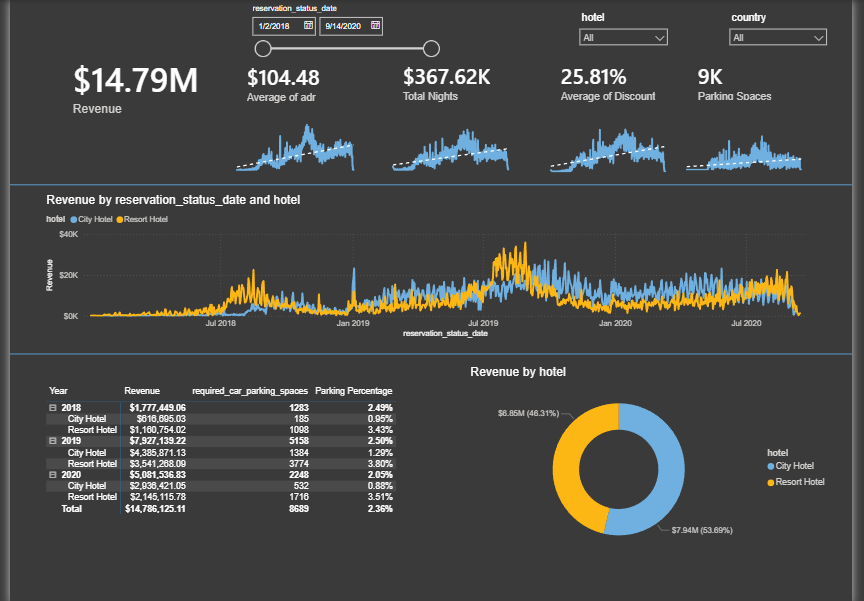

What the dashboard file says about the page in this screenshot:
{"tool":"powerbi","page":{"name":"Page 1","canvas":[1280,920],"ordinal":0},"visuals":[{"type":"shape","box":[0,264.3,1280,32.7],"z":0},{"type":"shape","box":[0,464.1,1280,148.9],"z":1000},{"type":"cardVisual","fields":{"Data":["Sum(Query1.Revenue)"]},"box":[65.3,42.3,257.5,173.9],"z":2000},{"type":"cardVisual","fields":{"Data":["Avg(Query1.adr)"]},"box":[330.6,66.3,237.4,115.3],"z":3000},{"type":"cardVisual","fields":{"Data":["Query1.Total Nights"]},"box":[567.9,69.2,247.9,109.5],"z":4000},{"type":"cardVisual","fields":{"Data":["Avg(Query1.Discount)"]},"box":[807.2,69.2,219.1,108.6],"z":5000},{"type":"lineChart","fields":{"Y":["Sum(Query1.Revenue)"],"Category":["Query1.reservation_status_date"],"Series":["Query1.hotel"]},"box":[50,293.1,1179.1,225.8],"z":6000},{"type":"slicer","fields":{"Values":["Query1.country"]},"box":[1084.9,13.9,168,80.1],"z":7000},{"type":"slicer","fields":{"Values":["Query1.hotel"]},"box":[855.9,13.7,154.5,66.4],"z":8000},{"type":"lineChart","fields":{"Category":["Query1.reservation_status_date"],"Y":["Sum(Query1.adr)"]},"box":[330.6,165.3,207.6,99],"z":9000},{"type":"lineChart","fields":{"Y":["Query1.Total Nights"],"Category":["Query1.reservation_status_date"]},"box":[567.9,165.3,205.6,99],"z":10000},{"type":"lineChart","fields":{"Y":["Sum(Query1.Discount)"],"Category":["Query1.reservation_status_date"]},"box":[807.2,177.8,203.7,89.4],"z":11000},{"type":"cardVisual","fields":{"Data":["Sum(Query1.required_car_parking_spaces)"]},"box":[1015.5,75.5,252.7,94],"z":12000},{"type":"lineChart","fields":{"Y":["Sum(Query1.required_car_parking_spaces)"],"Category":["Query1.reservation_status_date"]},"box":[1014.8,174.9,203.7,89.4],"z":13000},{"type":"donutChart","fields":{"Category":["Query1.hotel"],"Y":["Sum(Query1.Revenue)"]},"box":[694.6,555,558.4,296.4],"z":14000},{"type":"pivotTable","fields":{"Rows":["Query1.reservation_status_date.Variation.Date Hierarchy.Year","Query1.hotel"],"Values":["Sum(Query1.Revenue)","Sum(Query1.required_car_parking_spaces)","Query1.Parking Percentage"]},"box":[50.3,580.1,611,296.4],"z":15000},{"type":"slicer","fields":{"Values":["Query1.reservation_status_date"]},"box":[355.9,0,305.5,93.8],"z":16000}]}

Visuals, with their boxes on the page's 1280x920 design canvas (x1, y1, x2, y2). These are canvas units, not pixel positions in the 864x601 screenshot, which may show the page scaled, cropped or inside an application window:
shape: Rect(0, 264, 1280, 297)
shape: Rect(0, 464, 1280, 613)
cardVisual - Sum(Query1.Revenue): Rect(65, 42, 323, 216)
cardVisual - Avg(Query1.adr): Rect(331, 66, 568, 182)
cardVisual - Query1.Total Nights: Rect(568, 69, 816, 179)
cardVisual - Avg(Query1.Discount): Rect(807, 69, 1026, 178)
lineChart - Sum(Query1.Revenue) x Query1.reservation_status_date: Rect(50, 293, 1229, 519)
slicer - Query1.country: Rect(1085, 14, 1253, 94)
slicer - Query1.hotel: Rect(856, 14, 1010, 80)
lineChart - Query1.reservation_status_date x Sum(Query1.adr): Rect(331, 165, 538, 264)
lineChart - Query1.Total Nights x Query1.reservation_status_date: Rect(568, 165, 774, 264)
lineChart - Sum(Query1.Discount) x Query1.reservation_status_date: Rect(807, 178, 1011, 267)
cardVisual - Sum(Query1.required_car_parking_spaces): Rect(1016, 76, 1268, 170)
lineChart - Sum(Query1.required_car_parking_spaces) x Query1.reservation_status_date: Rect(1015, 175, 1218, 264)
donutChart - Query1.hotel x Sum(Query1.Revenue): Rect(695, 555, 1253, 851)
pivotTable - Query1.reservation_status_date.Variation.Date Hierarchy.Year x Query1.hotel: Rect(50, 580, 661, 876)
slicer - Query1.reservation_status_date: Rect(356, 0, 661, 94)
